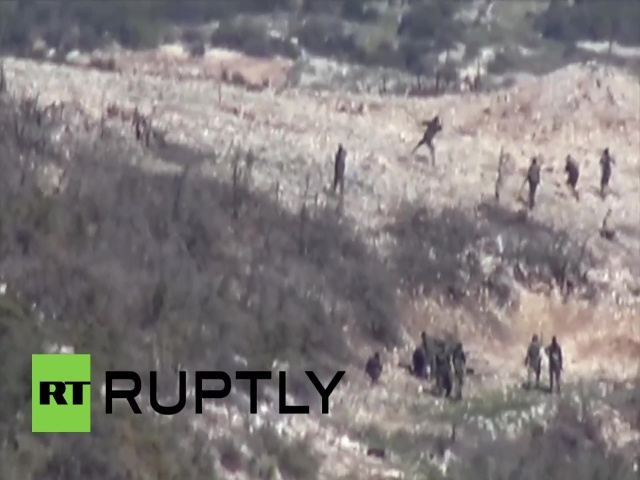person: (413, 114, 444, 165), (523, 334, 542, 395), (560, 153, 583, 203), (545, 335, 564, 395), (434, 342, 451, 402), (523, 158, 542, 211), (331, 144, 348, 201), (452, 344, 468, 402), (598, 146, 615, 198)
